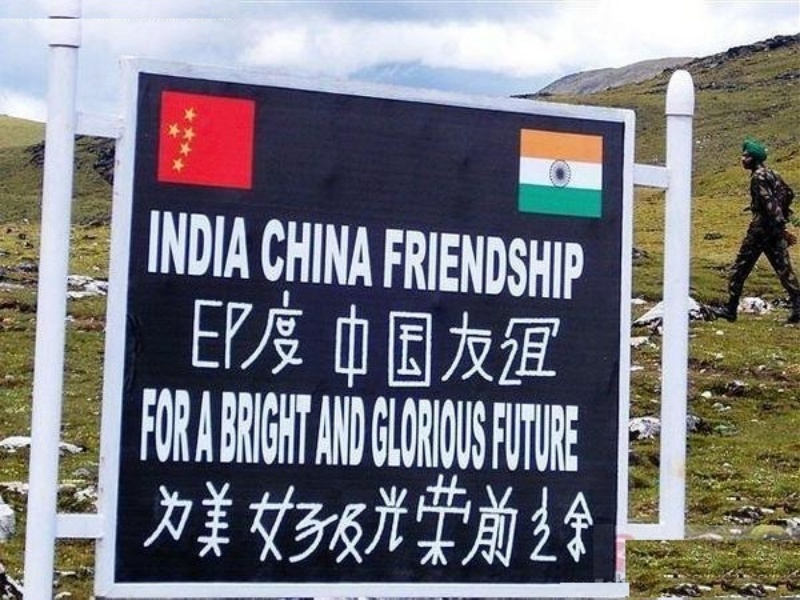text: (145, 465, 160, 578), (161, 465, 176, 578), (177, 465, 192, 578), (193, 465, 208, 578), (209, 465, 224, 578), (225, 465, 240, 578), (241, 465, 256, 578), (257, 465, 272, 578), (273, 465, 288, 578), (289, 465, 304, 578), (305, 465, 320, 578), (321, 465, 336, 578), (337, 465, 352, 578), (353, 465, 368, 578), (369, 465, 384, 578), (385, 465, 400, 578), (401, 465, 416, 578), (417, 465, 432, 578), (433, 465, 448, 578), (449, 465, 464, 578), (465, 465, 480, 578), (481, 465, 496, 578), (497, 465, 512, 578), (513, 465, 528, 578), (529, 465, 544, 578), (545, 465, 560, 578), (561, 465, 576, 578), (577, 465, 592, 578), (193, 287, 208, 397), (209, 287, 224, 397), (225, 287, 240, 397), (241, 287, 256, 397), (257, 287, 272, 397), (273, 287, 288, 397), (289, 287, 304, 397), (305, 287, 320, 397), (321, 287, 336, 397), (337, 287, 352, 397), (353, 287, 368, 397), (369, 287, 384, 397), (385, 287, 400, 397), (401, 287, 416, 397), (417, 287, 432, 397), (433, 287, 448, 397), (449, 287, 464, 397), (465, 287, 480, 397), (481, 287, 496, 397), (497, 287, 512, 397), (513, 287, 528, 397), (529, 287, 544, 397), (545, 287, 560, 397), (353, 393, 369, 469), (145, 386, 160, 465), (161, 386, 176, 465), (177, 386, 192, 465), (225, 390, 240, 467), (241, 390, 256, 467), (257, 390, 272, 467), (273, 390, 288, 467), (289, 390, 304, 467), (401, 227, 416, 303), (417, 227, 432, 303), (433, 227, 448, 303), (449, 227, 464, 303), (465, 227, 480, 303), (481, 227, 496, 303), (497, 227, 512, 303), (513, 227, 528, 303), (529, 227, 544, 303), (545, 227, 560, 303), (561, 227, 576, 303), (321, 393, 336, 469), (337, 393, 352, 469), (385, 397, 400, 473), (401, 397, 416, 473), (417, 397, 432, 473), (433, 397, 448, 473), (449, 397, 464, 473), (465, 397, 480, 473), (497, 401, 512, 475), (513, 401, 528, 475), (529, 401, 544, 475), (545, 401, 560, 475), (561, 401, 576, 475), (161, 209, 176, 282), (177, 209, 192, 282), (193, 209, 208, 282), (209, 209, 224, 282), (225, 209, 240, 282), (273, 218, 288, 290), (289, 218, 304, 290), (305, 218, 320, 290), (321, 218, 336, 290), (337, 218, 352, 290), (353, 218, 368, 290), (386, 227, 400, 303), (241, 209, 255, 282), (195, 388, 208, 463), (577, 227, 587, 303), (374, 397, 384, 473), (150, 209, 160, 282), (369, 218, 379, 290), (481, 397, 490, 473), (263, 218, 272, 290), (305, 390, 313, 467), (187, 287, 192, 397), (593, 465, 597, 578), (209, 388, 214, 463), (577, 401, 582, 475), (142, 386, 144, 465), (222, 390, 224, 467), (494, 401, 496, 475), (143, 465, 144, 578), (561, 287, 562, 397), (193, 386, 194, 465), (319, 393, 320, 469)
